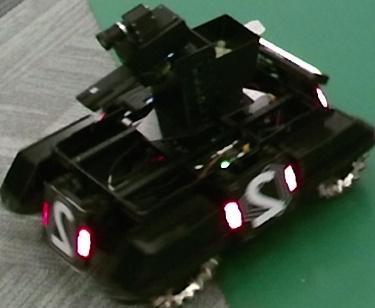armor_2: (223, 165, 298, 226)
front_2: (47, 192, 78, 263)
left_2: (238, 162, 292, 227)
light: (259, 35, 322, 76)
